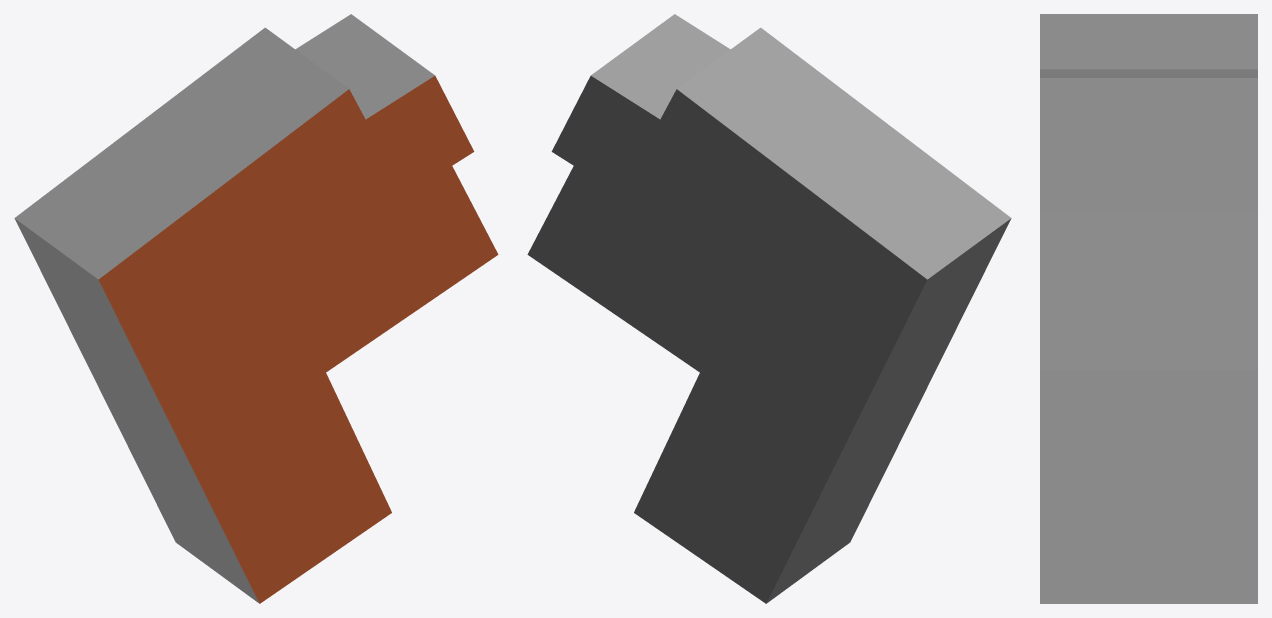
The model's file is construction_0353_assumed_A_Casa_h6m.obj.
3 renders of one model, left to right at view 1: azimuth 30°, elevation 25°; view 2: azimuth 150°, elevation 25°; view 3: azimuth 270°, elevation 25°, orthographic. The views are drawn at different scales.
Parts seen in each view (by area): view 1: construction_0353_assumed_A_Casa; view 2: construction_0353_assumed_A_Casa; view 3: construction_0353_assumed_A_Casa.
Part boxes in pixels (x1,y1,x2,y2): construction_0353_assumed_A_Casa: (14, 14, 498, 603); construction_0353_assumed_A_Casa: (527, 14, 1011, 603); construction_0353_assumed_A_Casa: (1040, 14, 1257, 603).
Bounding box in the file's own units: 16.48 × 19.42 × 6.
